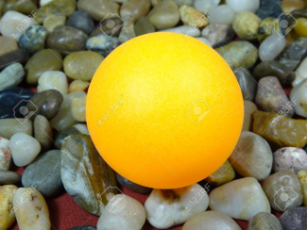ball: (82, 26, 249, 190)
